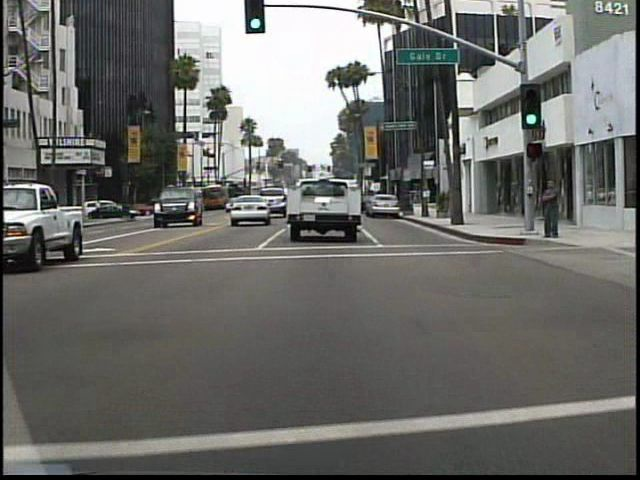person: (536, 171, 561, 245)
